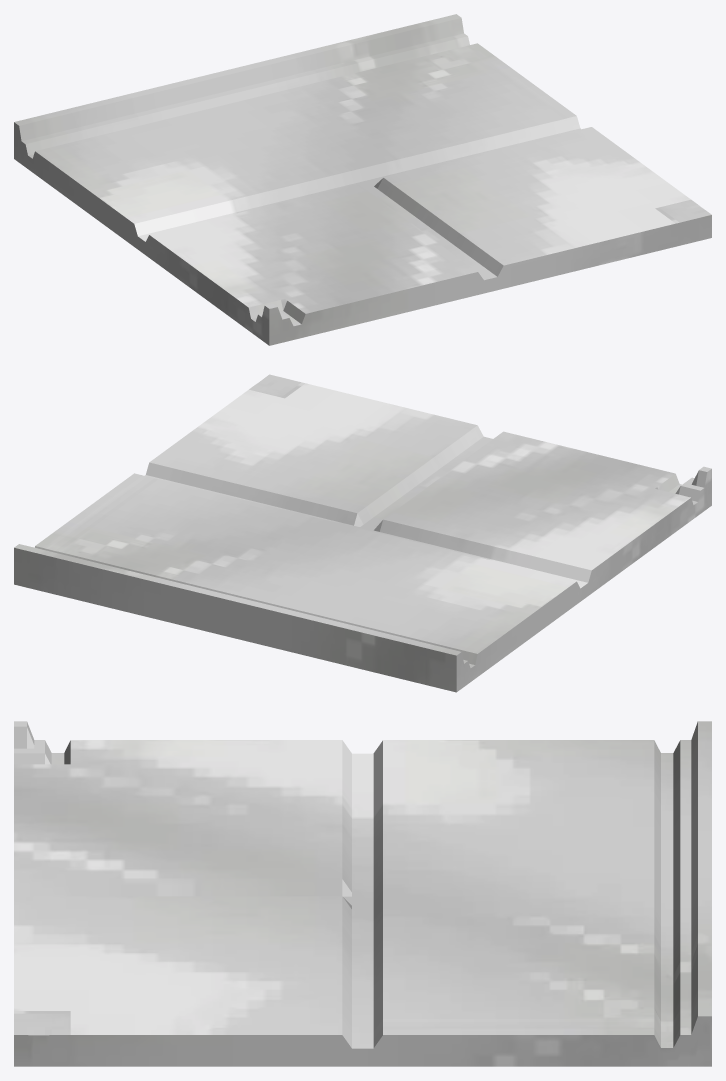
The model's file is 2SideEntranceTransitionFloor.fbx.
3 renders of one model, top to bottom at view 1: azimuth 30°, elevation 25°; view 2: azimuth 150°, elevation 25°; view 3: azimuth 270°, elevation 25°, orthographic. The views are drawn at different scales.
Visible parts, largest first — view 1: pCube179; view 2: pCube179; view 3: pCube179.
Boxes of the visible parts, box(x1,y1,x2,y2) form: pCube179: box(14, 14, 711, 345); pCube179: box(14, 374, 711, 692); pCube179: box(14, 721, 711, 1066).
Size of the model in its own units: 500 by 39.9 by 500.
1 material, 1 textured.
